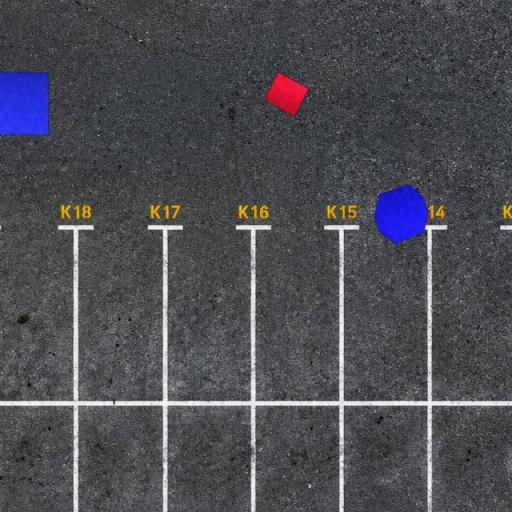BLUE_SQUARE: (0, 70, 50, 136)
RED_SQUARE: (264, 72, 310, 118)
